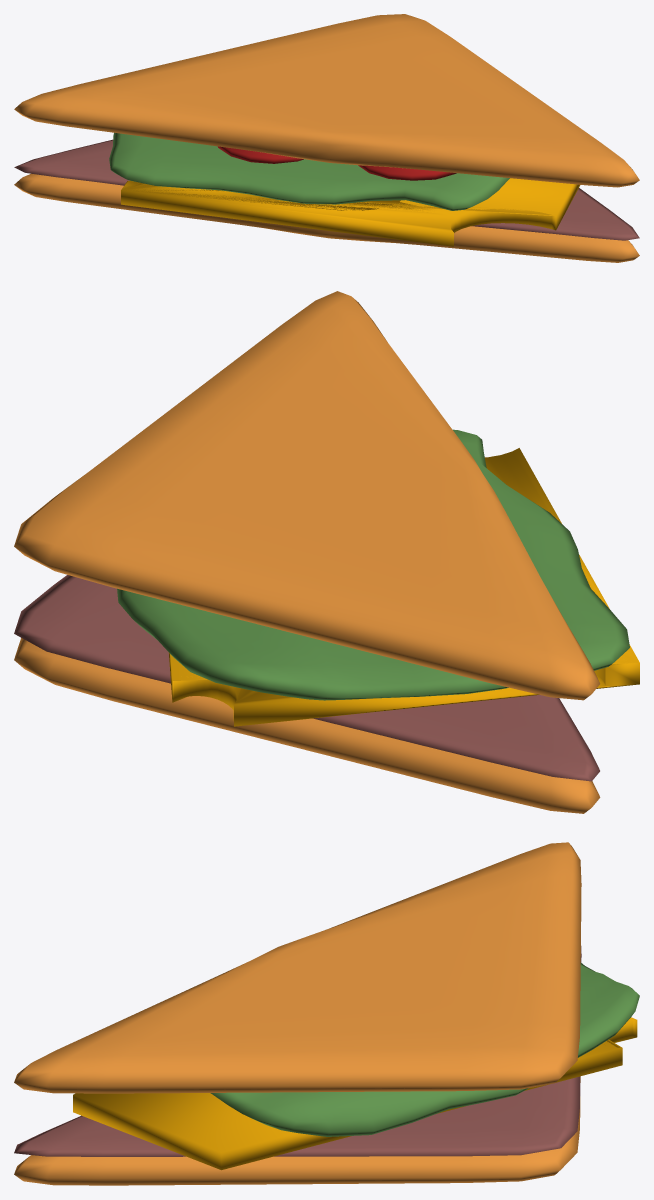
File: sandwich.fbx
The picture shows the model from 3 angles, top to bottom: view 1: azimuth 30°, elevation 25°; view 2: azimuth 150°, elevation 25°; view 3: azimuth 270°, elevation 25°; orthographic projection. The views are drawn at different scales.
Parts seen in each view (by area): view 1: Plane; view 2: Plane; view 3: Plane.
Boxes of the visible parts, bbox=[...] form: Plane: bbox=[14, 14, 639, 262]; Plane: bbox=[14, 291, 639, 813]; Plane: bbox=[14, 842, 639, 1185].
Bounding box in the file's own units: 325 × 73.55 × 333.
